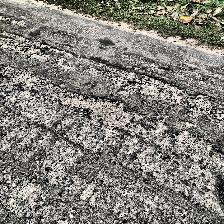pothole: (58, 92, 132, 124), (123, 72, 185, 100), (192, 94, 212, 114)
